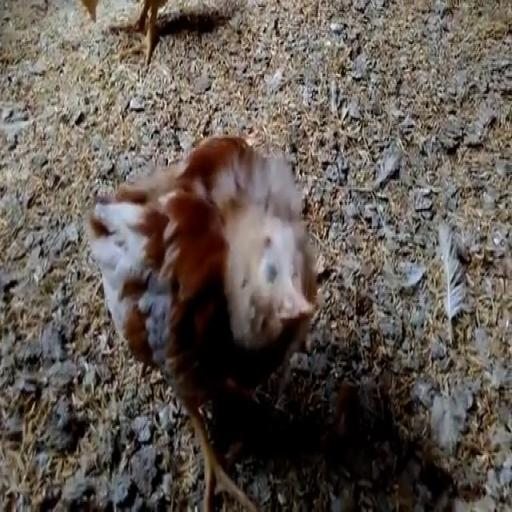disease: (240, 238, 296, 316)
